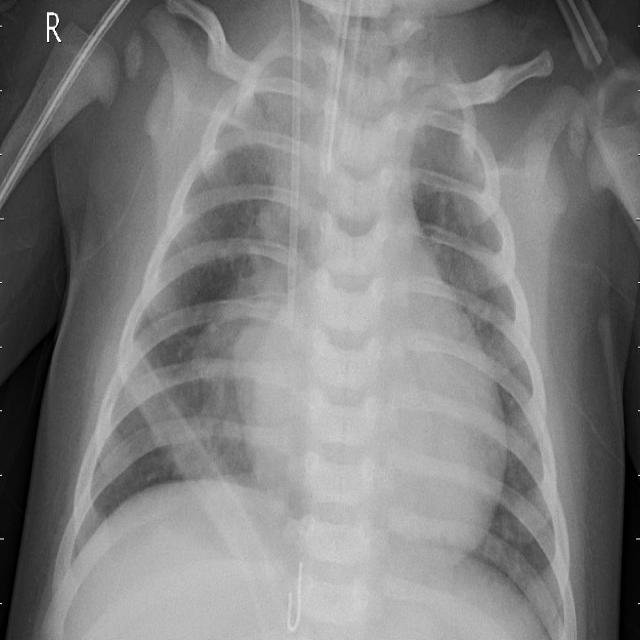bacterial_pneumonia: (0, 0, 640, 640), (0, 0, 640, 635)
